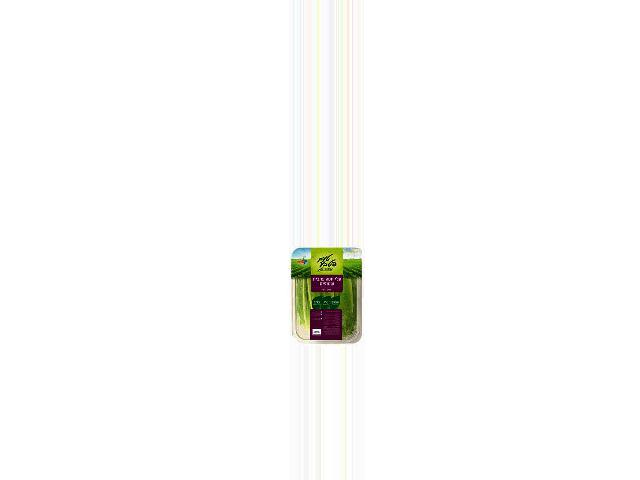lettuce: (289, 254, 362, 344)
